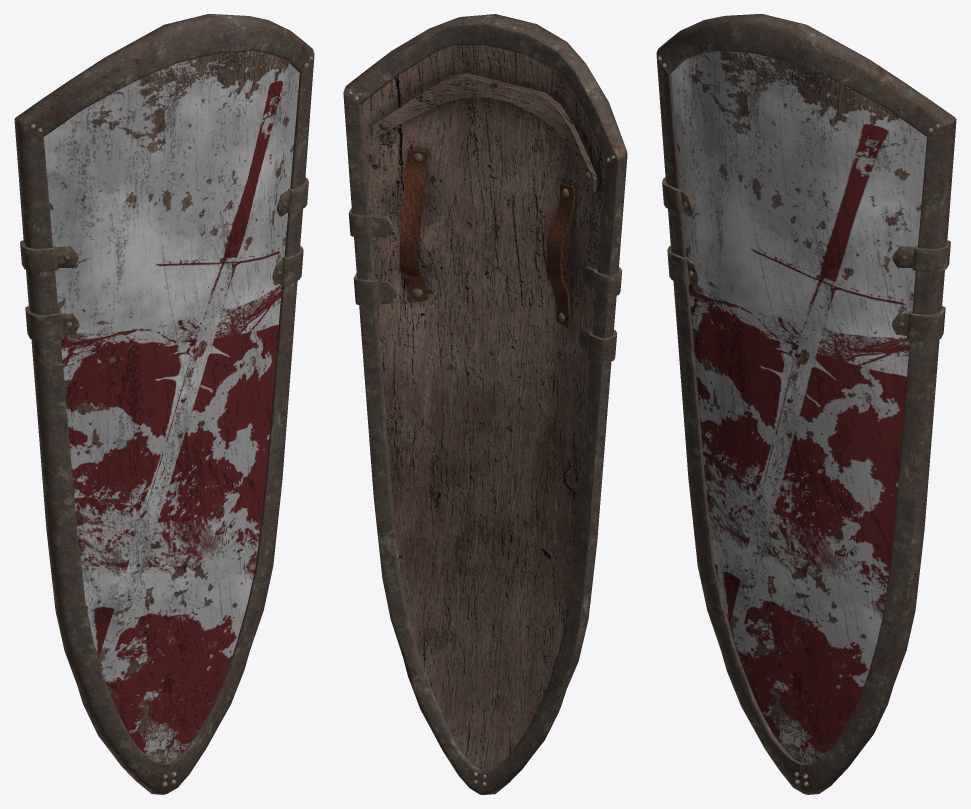
The model's file is kite_shield.gltf.
The picture shows the model from 3 angles, left to right: view 1: azimuth 30°, elevation 25°; view 2: azimuth 150°, elevation 25°; view 3: azimuth 330°, elevation 25°; orthographic projection. The views are drawn at different scales.
Visible parts, largest first — view 1: kite_shield_body, kite_shield_metal_trim, kite_shield_clamps_and_bolts; view 2: kite_shield_body, kite_shield_metal_trim, kite_shield_clamps_and_bolts; view 3: kite_shield_body, kite_shield_metal_trim, kite_shield_clamps_and_bolts.
Boxes of the visible parts, box(x1,y1,x2,y2) form: kite_shield_body: box(43, 51, 299, 763); kite_shield_metal_trim: box(14, 14, 314, 794); kite_shield_clamps_and_bolts: box(20, 56, 312, 786); kite_shield_body: box(361, 45, 606, 770); kite_shield_metal_trim: box(343, 14, 627, 794); kite_shield_clamps_and_bolts: box(348, 91, 622, 786); kite_shield_body: box(671, 51, 927, 763); kite_shield_metal_trim: box(656, 14, 956, 794); kite_shield_clamps_and_bolts: box(658, 56, 950, 786).
Size of the model in its own units: 0.5432 by 1.39 by 0.1347.
Materials: 2 (2 with a texture image).
